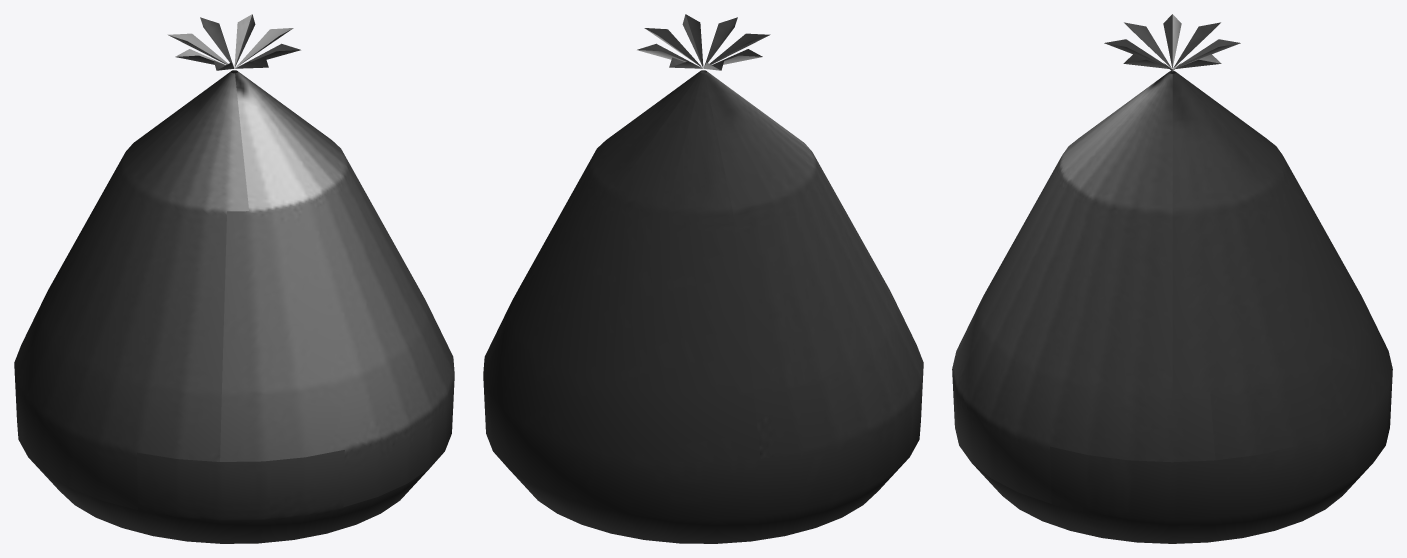
The model's file is Garbage.dae.
The picture shows the model from 3 angles, left to right: view 1: azimuth 30°, elevation 25°; view 2: azimuth 150°, elevation 25°; view 3: azimuth 270°, elevation 25°; orthographic projection.
Visible parts, largest first — view 1: Circle; view 2: Circle; view 3: Circle.
Part boxes in pixels (x1=…): Circle: x1=14, y1=14, x2=454, y2=543; Circle: x1=483, y1=14, x2=923, y2=543; Circle: x1=952, y1=14, x2=1392, y2=543.
Size of the model in its own units: 0.157 by 0.157 by 0.1686.
Materials: 1 (1 with a texture image).
